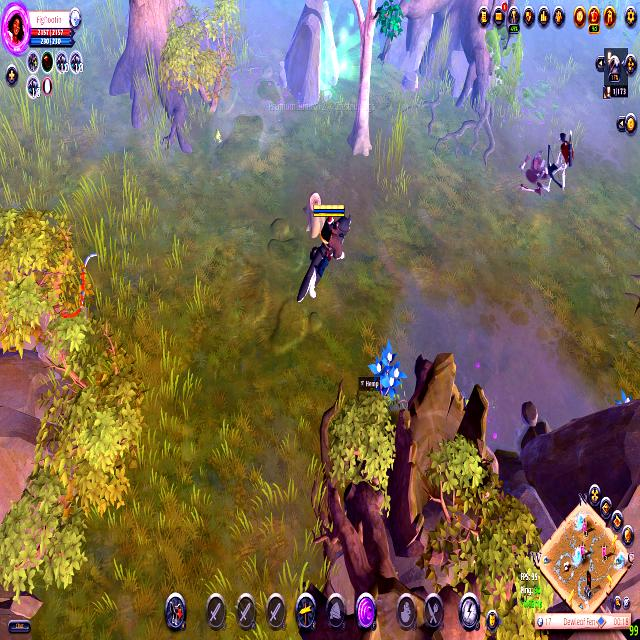hide: (369, 340, 408, 404)
ore: (541, 122, 581, 205)
red: (295, 192, 361, 312)
wisp caged: (332, 0, 408, 162)
